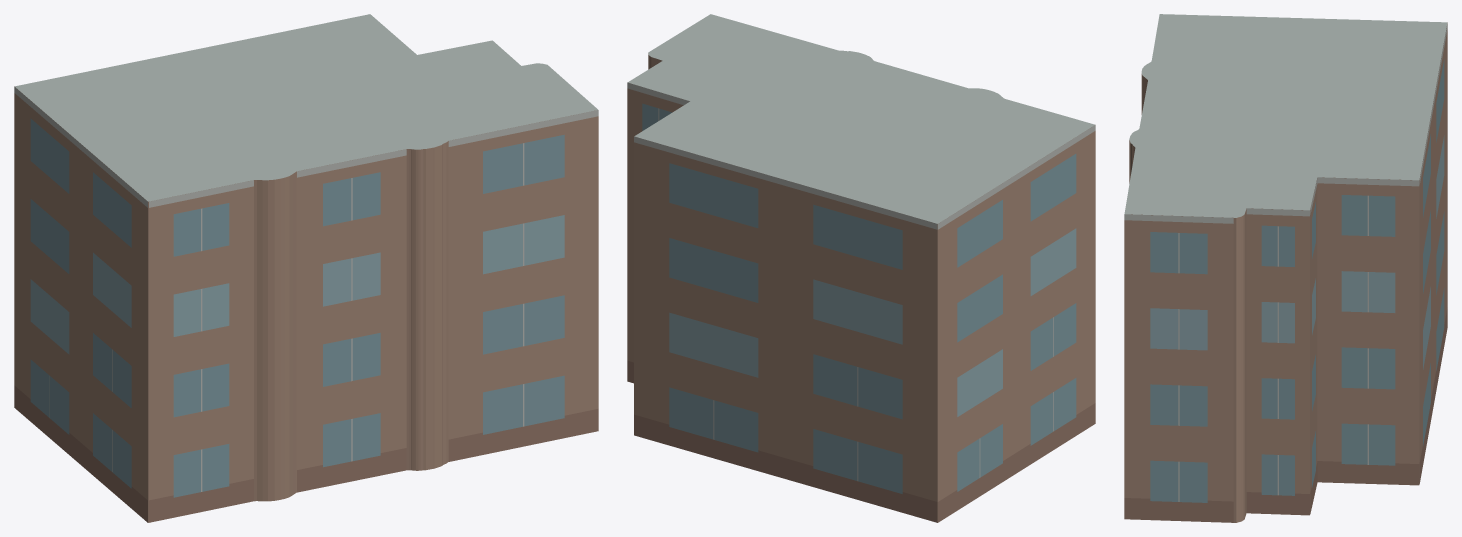
The model's file is survey-upis-32656659.glb.
3 renders of one model, left to right at view 1: azimuth 30°, elevation 25°; view 2: azimuth 150°, elevation 25°; view 3: azimuth 270°, elevation 25°, orthographic. The views are drawn at different scales.
Parts seen in each view (by area): view 1: survey-upis-32656659.tmp; view 2: survey-upis-32656659.tmp; view 3: survey-upis-32656659.tmp.
Boxes of the visible parts, left/top/right/bottom form: survey-upis-32656659.tmp: left=14, top=14, right=598, bottom=522; survey-upis-32656659.tmp: left=627, top=14, right=1095, bottom=522; survey-upis-32656659.tmp: left=1124, top=14, right=1447, bottom=522.
Size of the model in its own units: 17.64 by 12.3 by 11.82.
